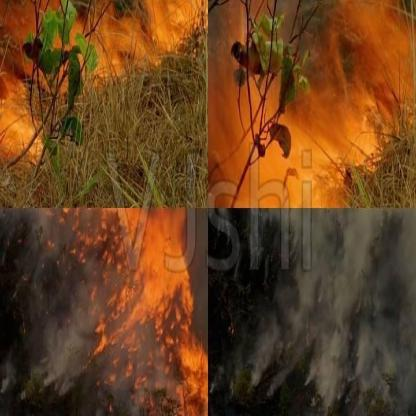fire: (220, 29, 410, 193), (80, 200, 202, 398), (6, 3, 204, 101), (0, 72, 44, 168)
smoke: (263, 227, 410, 401)
